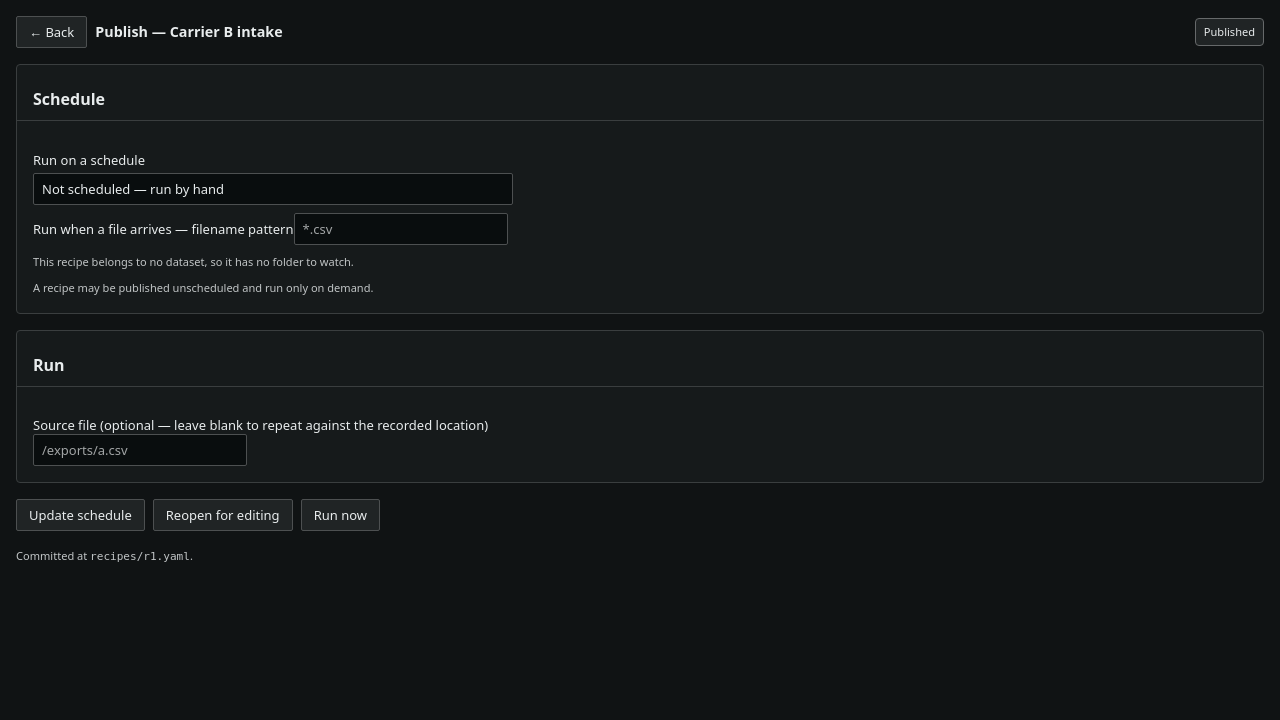
Scenario: PublishScreen › renders a pipeline run per branch and per stage, refusals in words
This screenshot has width=1280, height=720.
Click the button "Run now".
click(340, 515)  # box top-left (301, 499), bottom-right (380, 531)
(page scrolled)
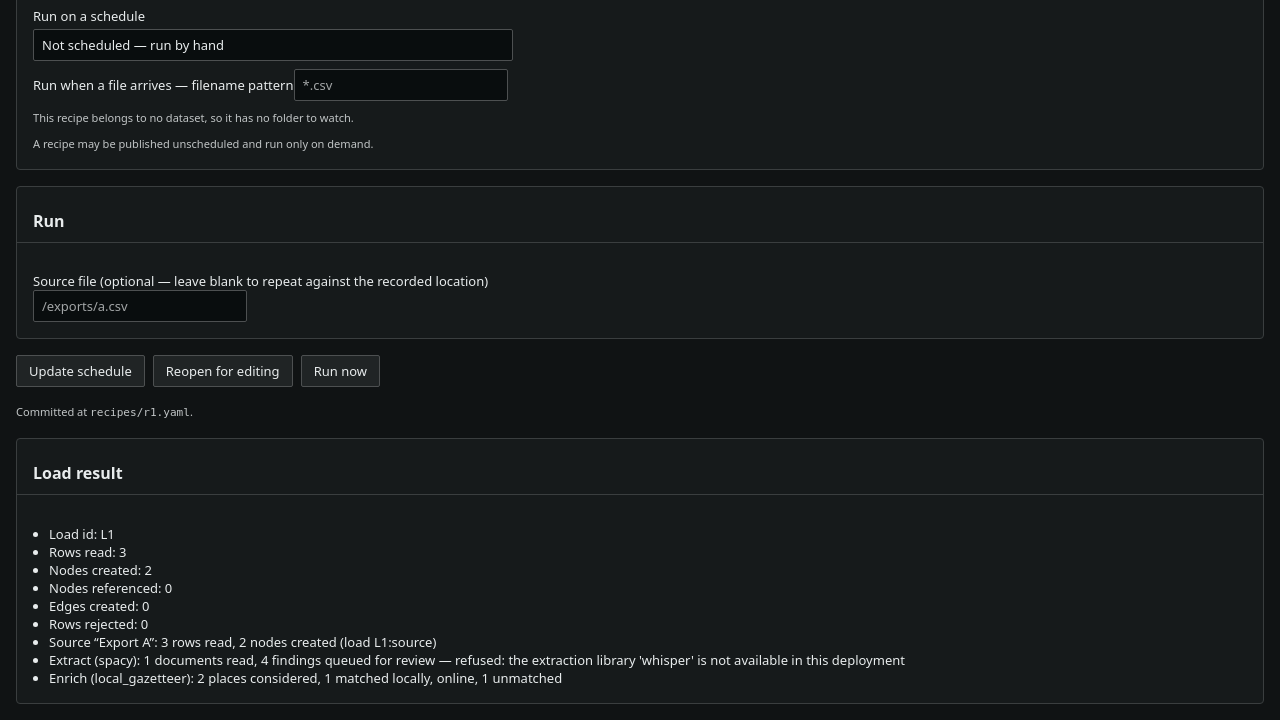
Expected: the list named "Pipeline stages" shows "Source “Export A”: 3 rows read", top-left (49, 633), bottom-right (905, 687)
Expected: the list named "Pipeline stages" shows "Extract (spacy): 1 documents read, 4 findings queued for review", top-left (49, 633), bottom-right (905, 687)
Expected: the list named "Pipeline stages" shows "refused: the extraction library 'whisper' is not available", top-left (435, 651), bottom-right (905, 669)
